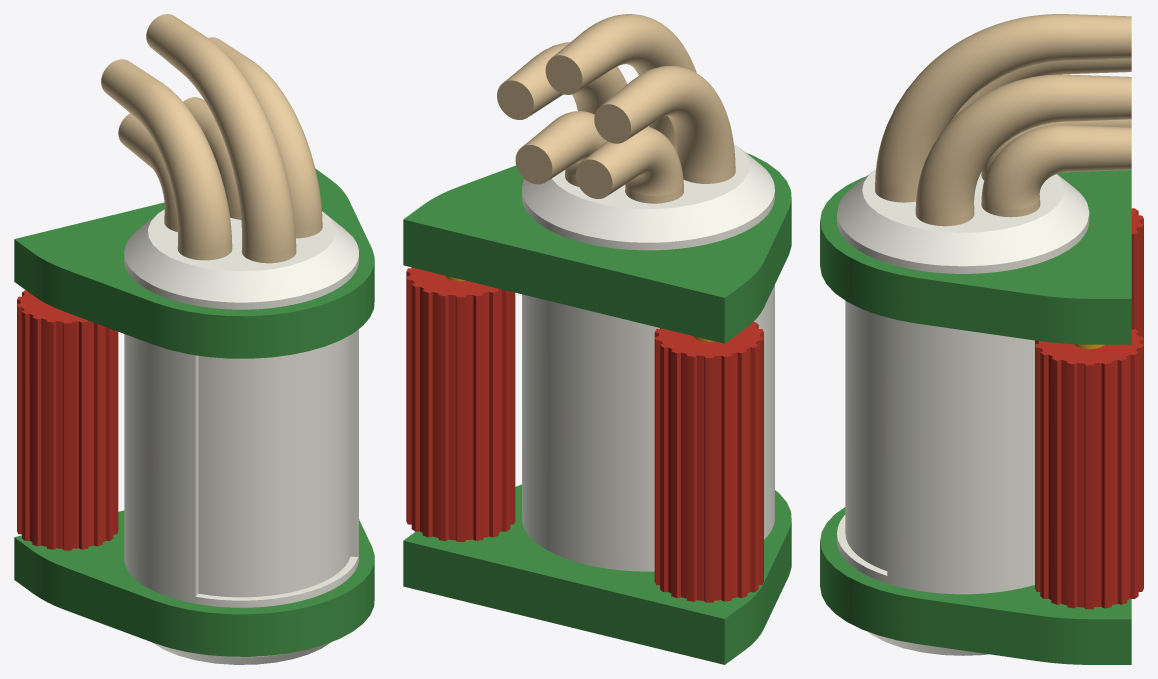
The model's file is cannon2.fbx.
3 renders of one model, left to right at view 1: azimuth 30°, elevation 25°; view 2: azimuth 150°, elevation 25°; view 3: azimuth 270°, elevation 25°, orthographic. The views are drawn at different scales.
Visible parts, largest first — view 1: Body1 (×9); view 2: Body1 (×10); view 3: Body1 (×10).
Part boxes in pixels (left/top/right/bottom): Body1 (×9): left=14, top=14, right=374, bottom=664; Body1 (×10): left=403, top=14, right=791, bottom=664; Body1 (×10): left=820, top=14, right=1143, bottom=664.
Size of the model in its own units: 47 by 77.81 by 38.46.
